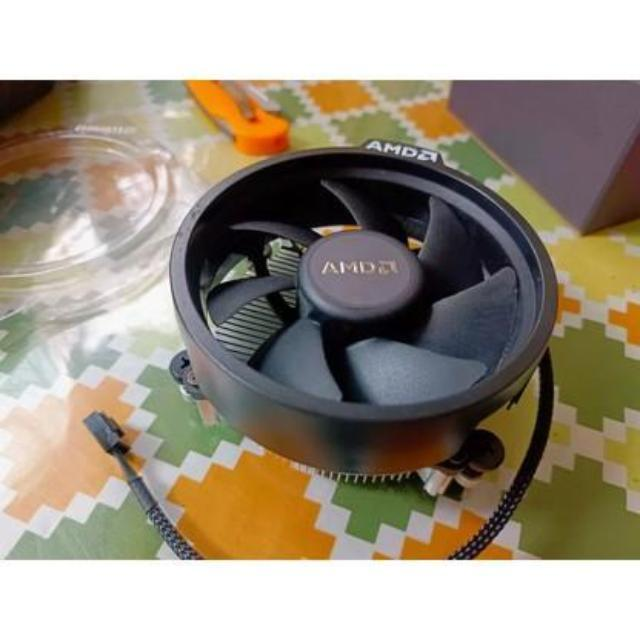CPU_Fan: (160, 144, 562, 492)
